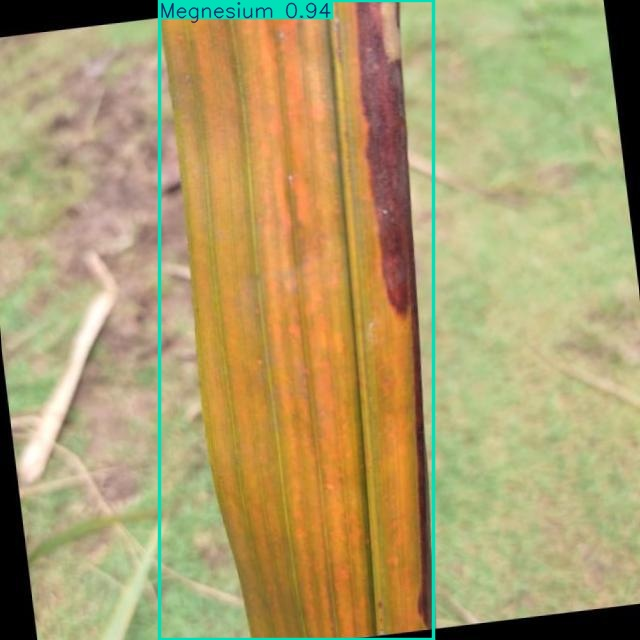Megnesium: (159, 0, 434, 640)
